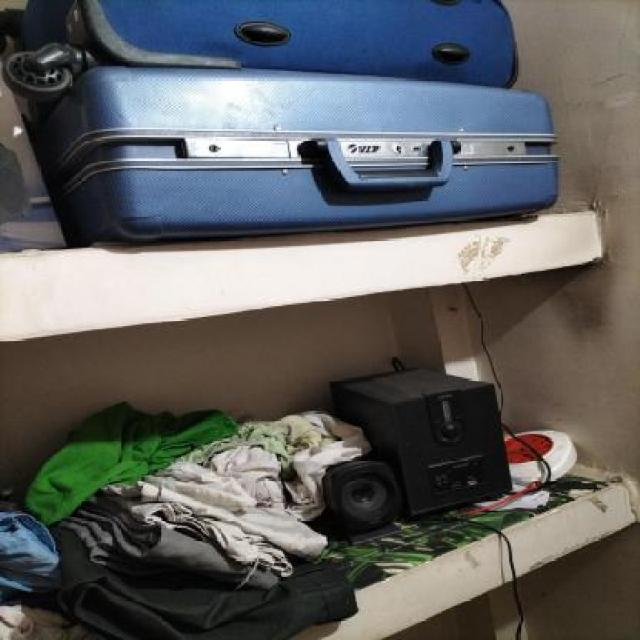backpack: (20, 70, 565, 244), (0, 0, 520, 91)
